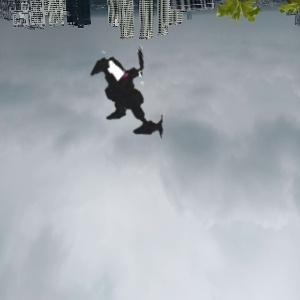drone: (62, 19, 211, 168)
